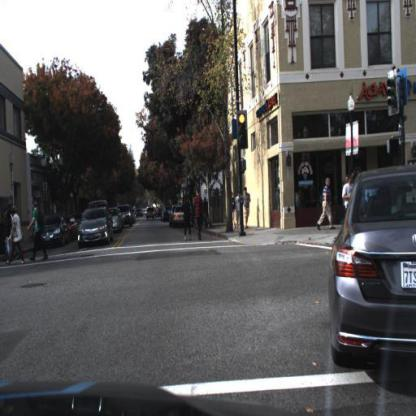car: (329, 165, 416, 378), (79, 205, 112, 254), (35, 210, 69, 253), (171, 204, 194, 231), (114, 211, 123, 231), (164, 206, 172, 224)
pedestrian: (29, 200, 45, 261), (182, 186, 194, 246), (11, 209, 23, 263), (322, 179, 333, 234), (195, 187, 203, 251), (183, 194, 192, 247), (242, 187, 252, 231), (227, 192, 237, 232), (343, 177, 354, 211), (236, 191, 245, 231), (236, 193, 243, 227), (344, 174, 349, 208), (233, 196, 237, 229)
trafficLight: (237, 110, 249, 149)
